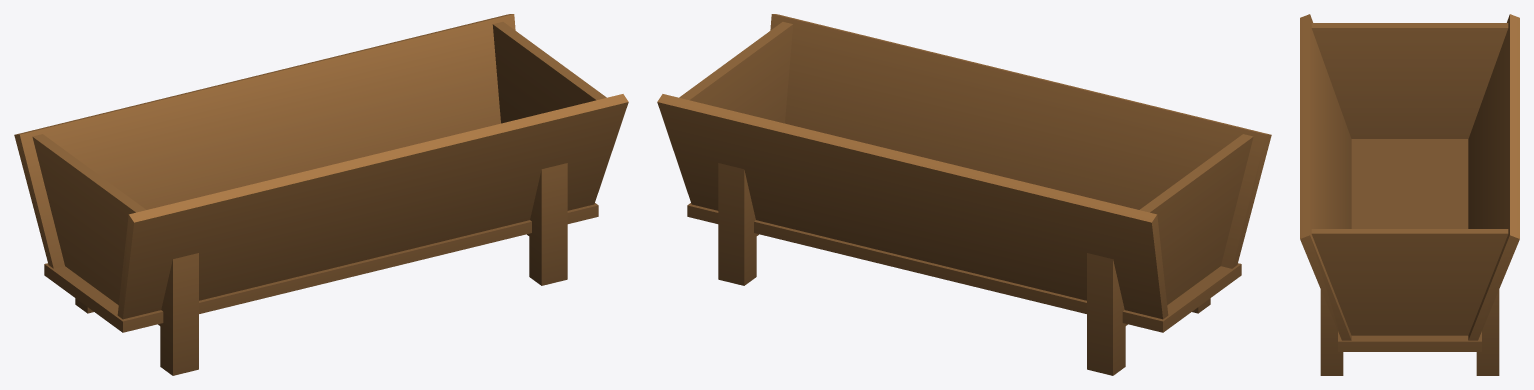
File: Prop_Trough_02.obj
3 views of the same model, side by side, from view 1: azimuth 30°, elevation 25°; view 2: azimuth 150°, elevation 25°; view 3: azimuth 270°, elevation 25° (orthographic). The views are drawn at different scales.
Parts seen in each view (by area): view 1: Prop_Trough_02; view 2: Prop_Trough_02; view 3: Prop_Trough_02.
Boxes of the visible parts, x1,y1,x2,y2 form: Prop_Trough_02: (14, 14, 628, 375); Prop_Trough_02: (657, 14, 1271, 375); Prop_Trough_02: (1300, 14, 1519, 375).
Bounding box in the file's own units: 1.96 × 0.6741 × 0.8242.
1 material, 1 textured.
